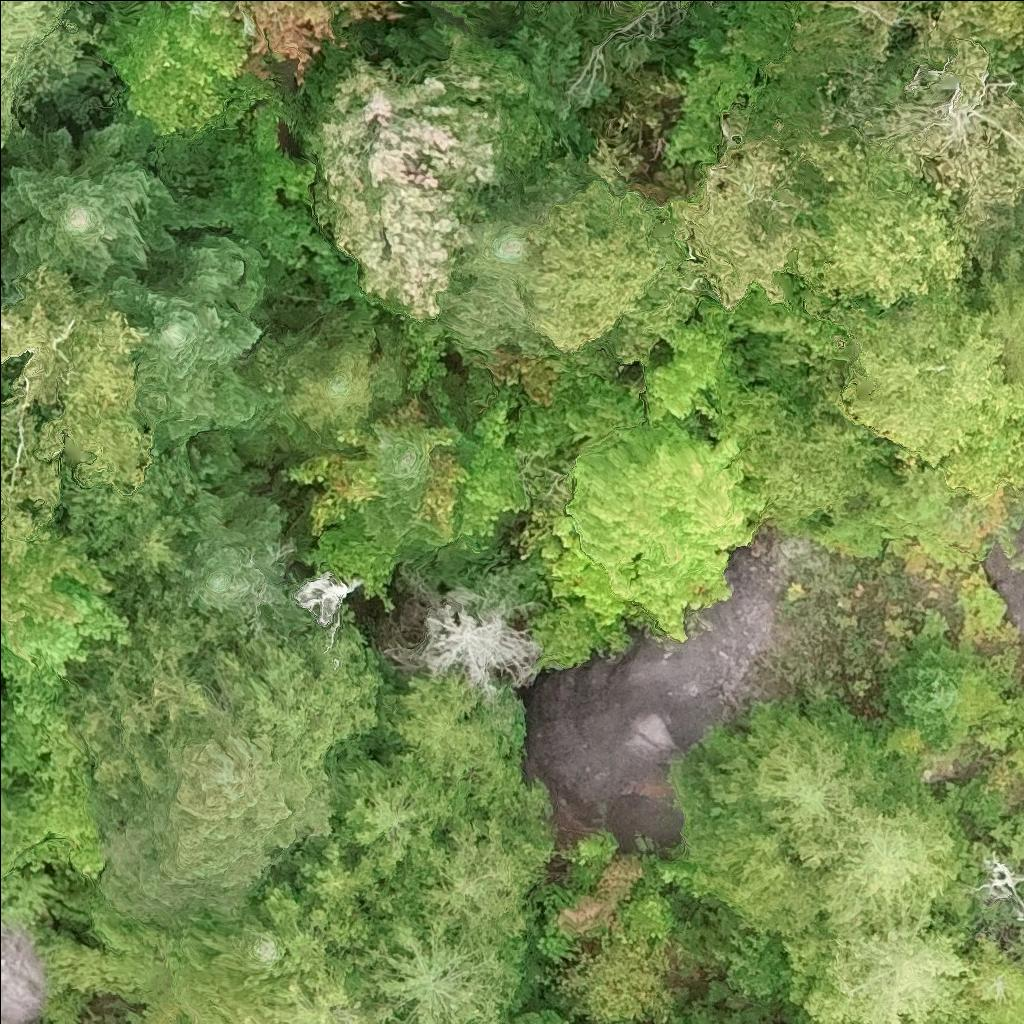crown: (311, 1, 608, 388), (540, 327, 768, 640), (674, 121, 974, 314), (675, 693, 905, 937), (96, 732, 336, 925), (518, 137, 705, 381), (804, 291, 1023, 495), (0, 260, 154, 542), (278, 394, 468, 610), (106, 237, 285, 451), (816, 462, 1023, 642), (0, 125, 200, 290), (856, 36, 1023, 232), (440, 162, 587, 355), (794, 786, 974, 943), (229, 305, 408, 455), (63, 439, 228, 592), (0, 531, 128, 727), (90, 0, 251, 138), (765, 0, 1023, 81), (172, 493, 311, 635), (387, 573, 542, 699), (787, 922, 972, 1023), (418, 810, 553, 947), (341, 749, 468, 878), (0, 0, 101, 146), (208, 0, 383, 84), (364, 917, 502, 1023), (385, 663, 501, 788), (440, 401, 533, 553), (24, 720, 104, 874), (563, 927, 675, 1023), (357, 416, 434, 538), (983, 243, 1023, 383), (962, 936, 1023, 1023), (615, 857, 672, 943), (294, 571, 362, 642), (628, 0, 651, 7), (669, 0, 697, 5), (1015, 940, 1023, 949)
